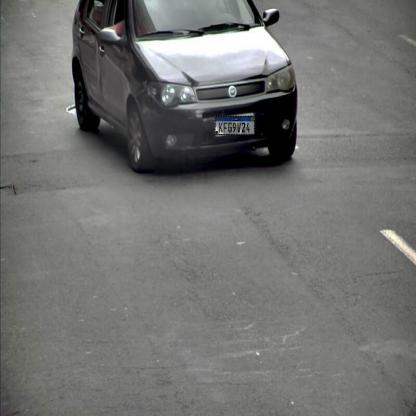PlacaM: (215, 116, 255, 135)
